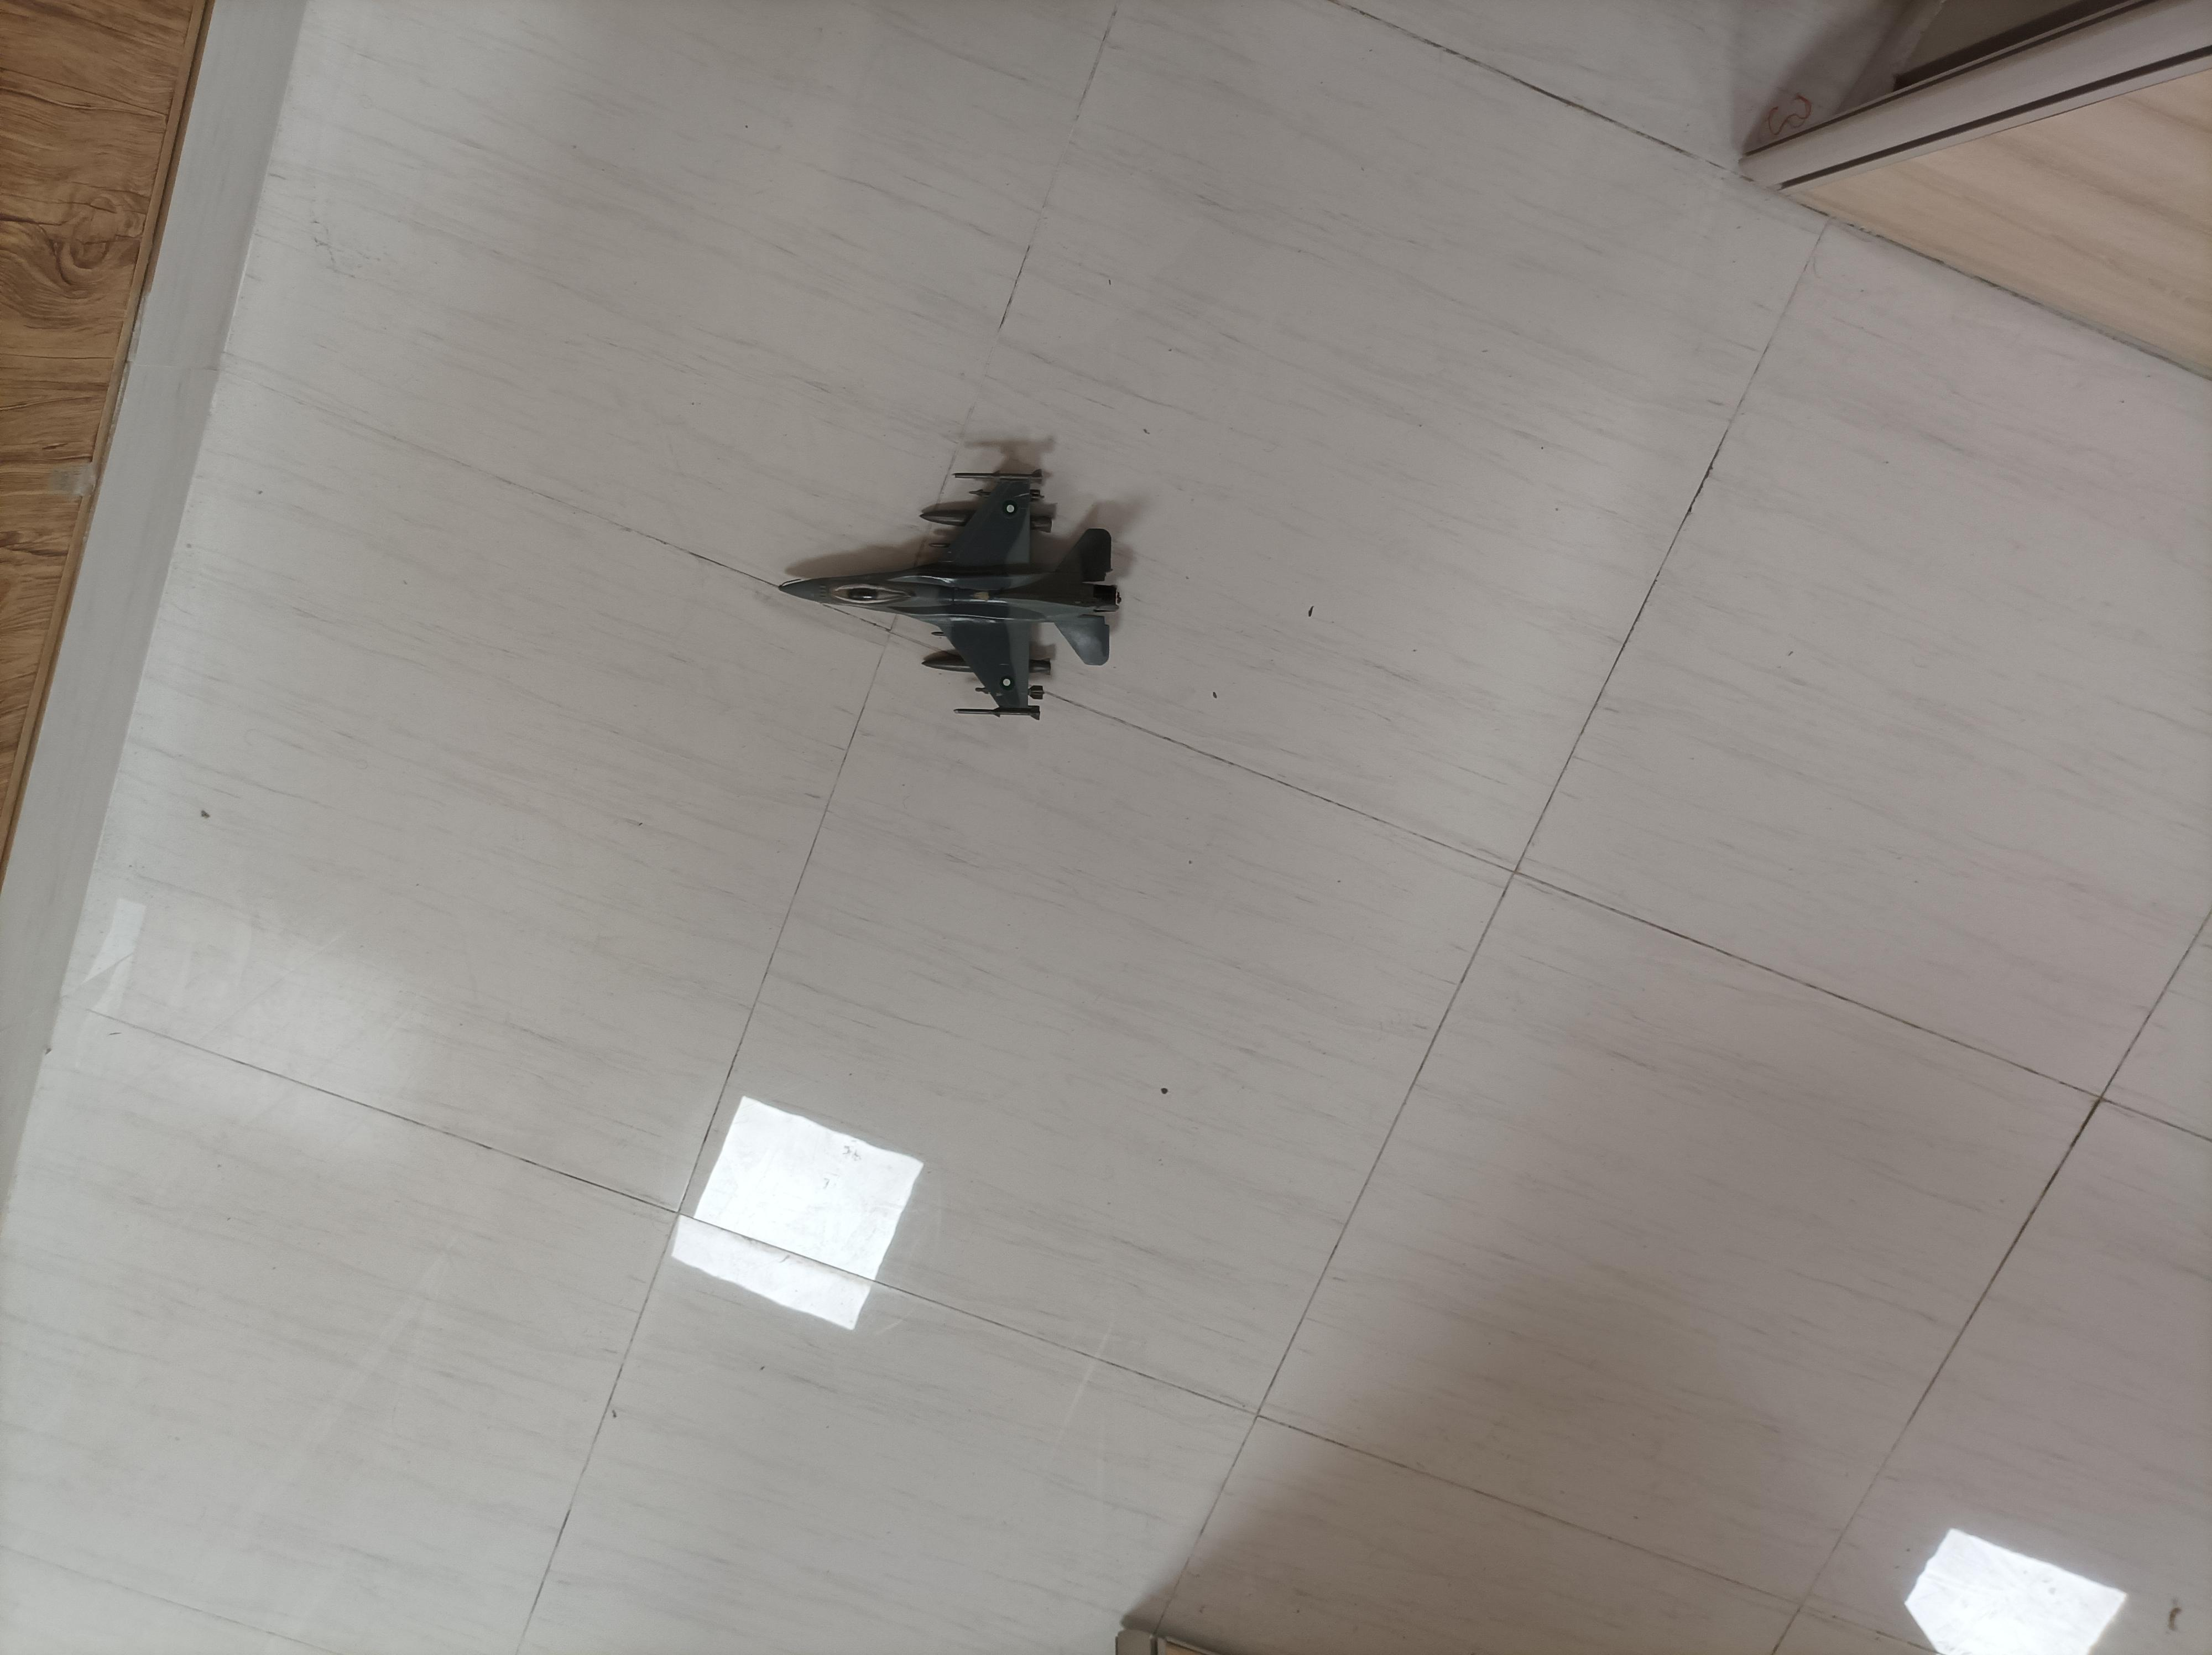Airplane: (768, 443, 1156, 754)
